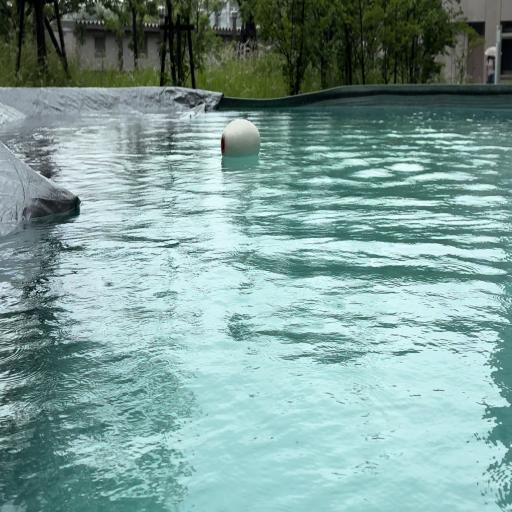white buoy: (221, 119, 260, 159)
